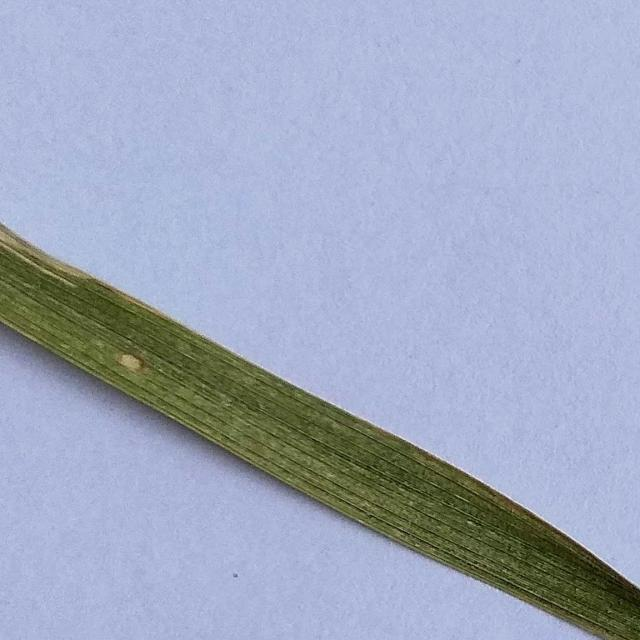Leaf_Blast: (114, 332, 157, 376)
